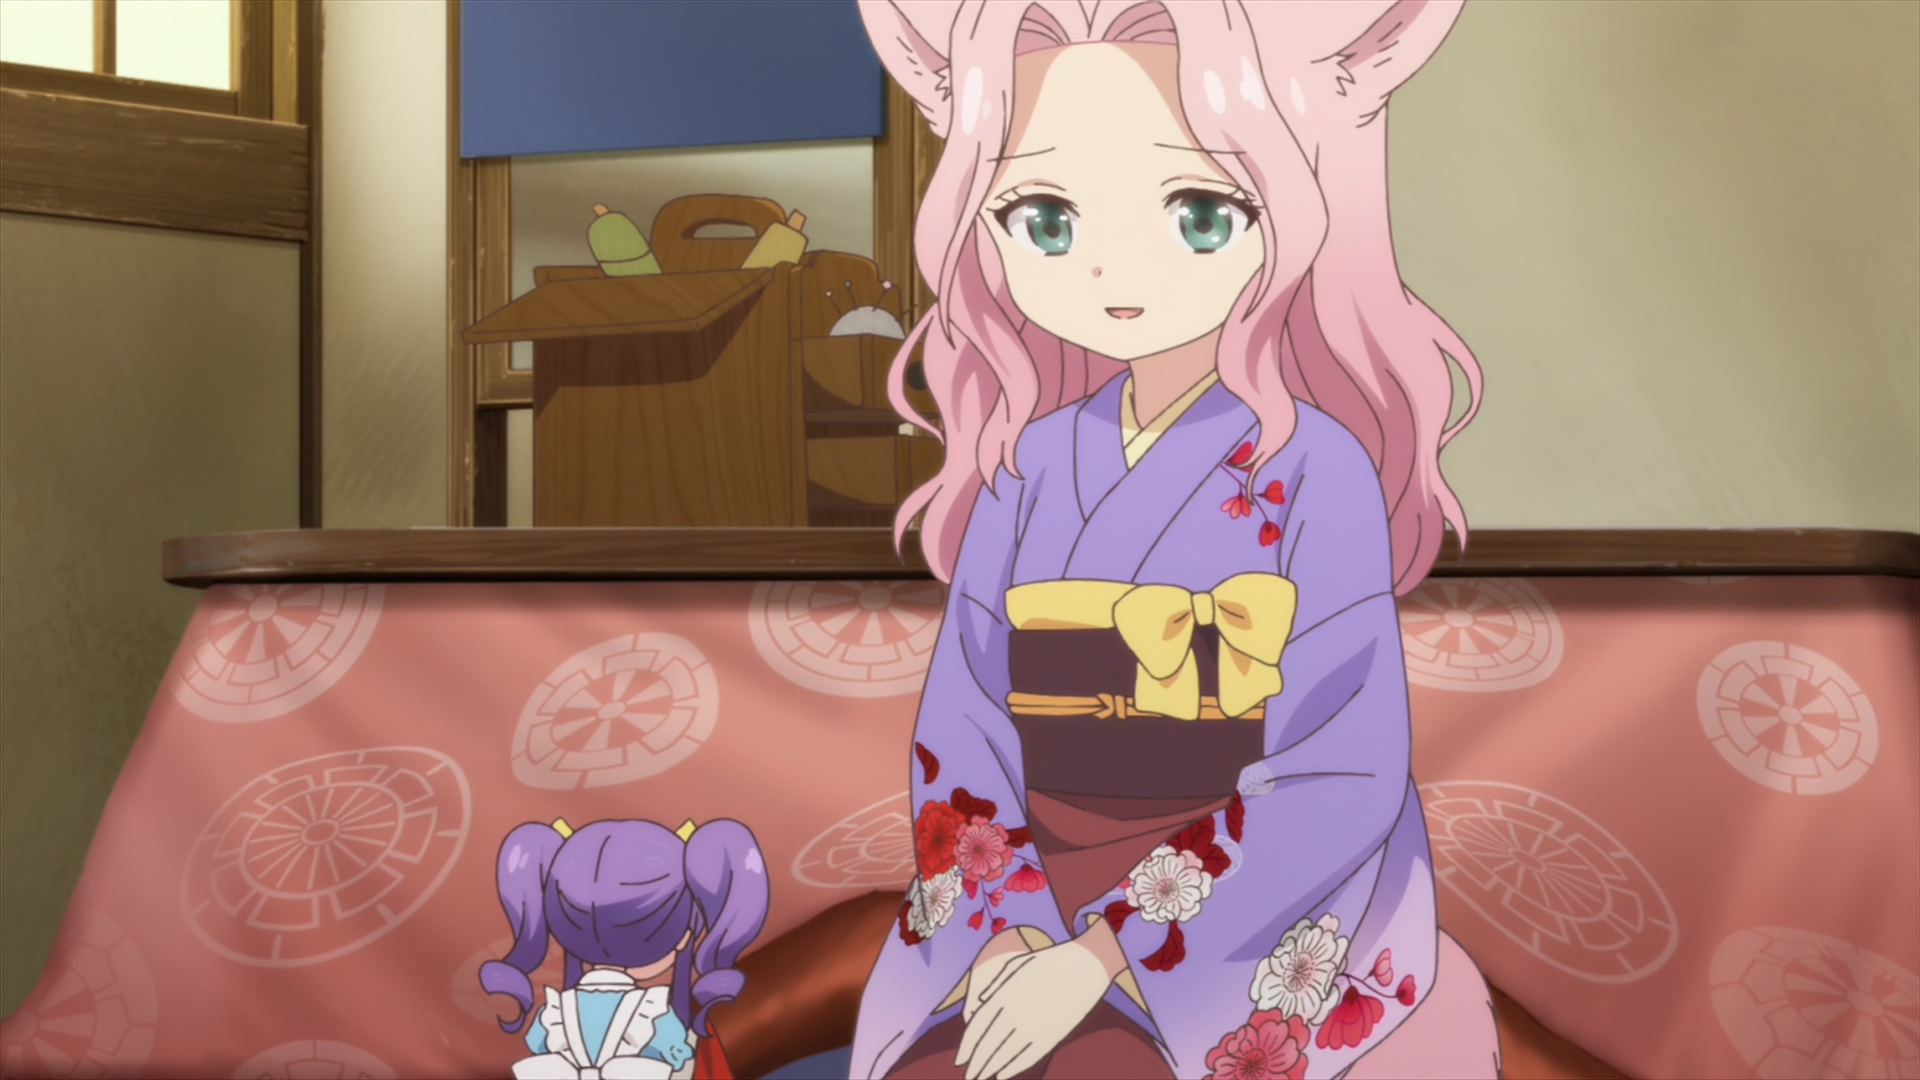莲: (848, 1, 1502, 1080)
阿菊: (481, 819, 769, 1080)
